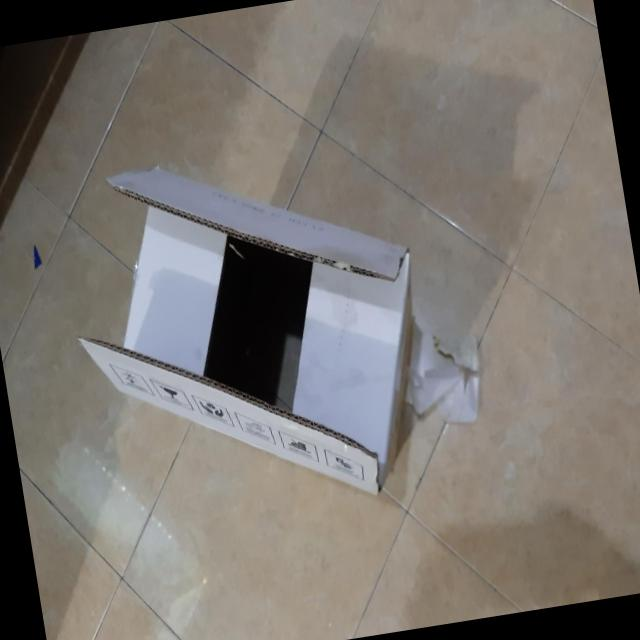Kardus: (51, 126, 448, 538)
